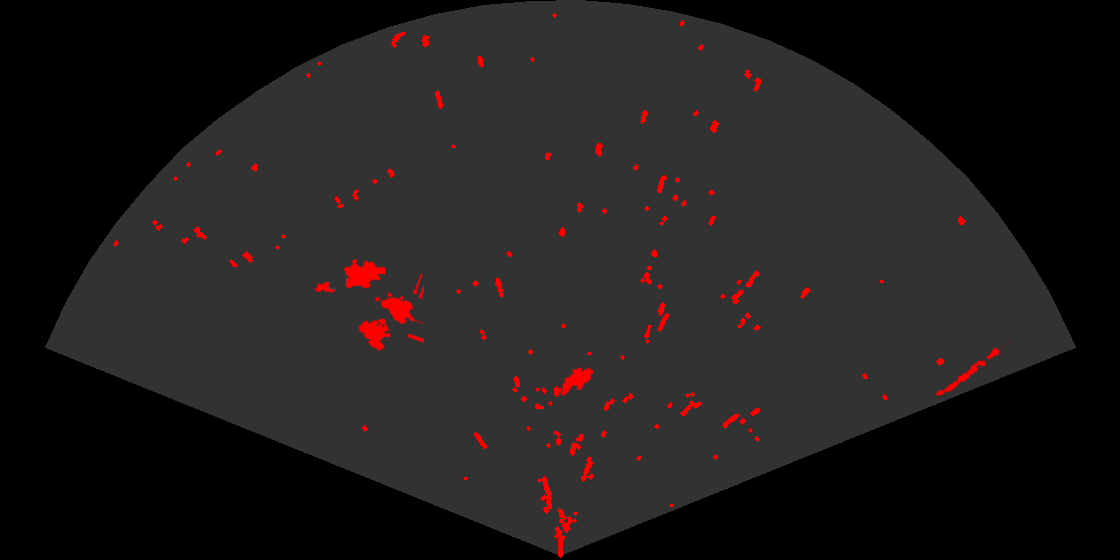AUV: (559, 366, 595, 397)
cage: (357, 274, 424, 353)
chain: (934, 341, 1009, 398)
frogman: (313, 257, 385, 294)
